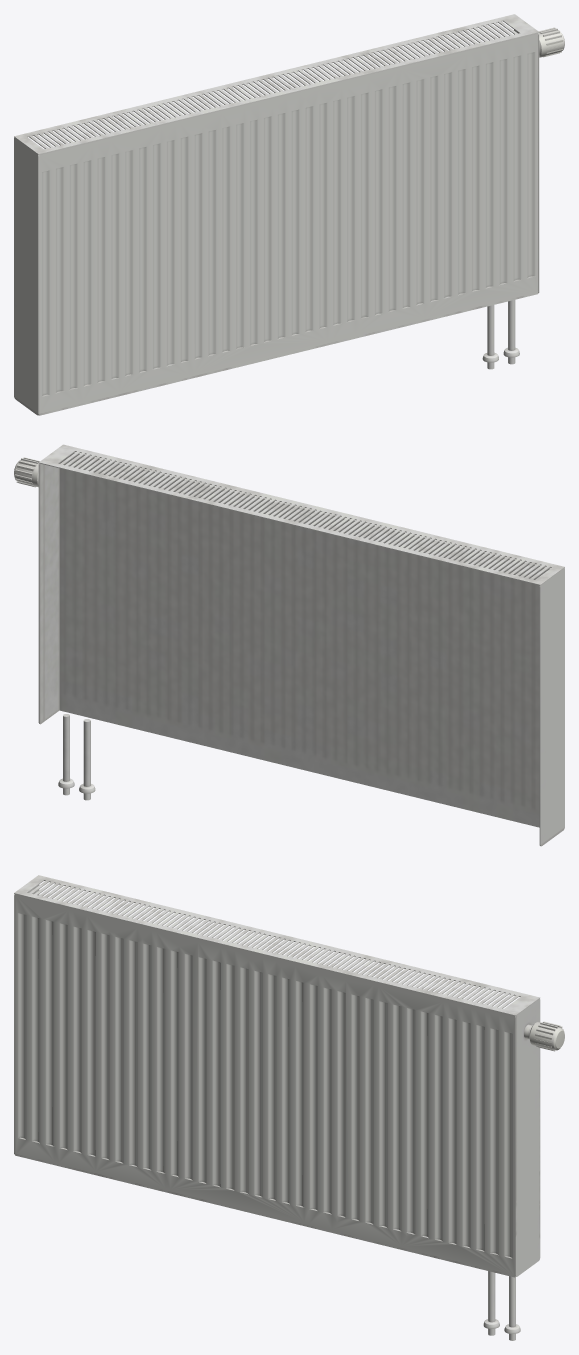
Rendered from same_seed_desk_radiator.glb.
3 renders of one model, top to bottom at view 1: azimuth 30°, elevation 25°; view 2: azimuth 150°, elevation 25°; view 3: azimuth 330°, elevation 25°, orthographic.
Visible parts, largest first — view 1: radiator_front_panel_low, radiator_grille_low, radiator_side_cover_l_low, radiator_pipes_and_collars_low, radiator_side_cover_r_low; view 2: radiator_front_panel_low, radiator_grille_low, radiator_side_cover_l_low, radiator_side_cover_r_low, radiator_pipes_and_collars_low; view 3: radiator_front_panel_low, radiator_grille_low, radiator_side_cover_r_low, radiator_pipes_and_collars_low, radiator_thermostat_low.
Part boxes in pixels (bbox=[...]): radiator_front_panel_low: bbox=[38, 33, 538, 415]; radiator_grille_low: bbox=[14, 14, 539, 154]; radiator_side_cover_l_low: bbox=[14, 137, 39, 415]; radiator_pipes_and_collars_low: bbox=[482, 300, 519, 369]; radiator_side_cover_r_low: bbox=[514, 15, 539, 292]; radiator_front_panel_low: bbox=[59, 452, 550, 827]; radiator_grille_low: bbox=[38, 444, 564, 585]; radiator_side_cover_l_low: bbox=[539, 568, 564, 846]; radiator_side_cover_r_low: bbox=[38, 463, 59, 724]; radiator_pipes_and_collars_low: bbox=[58, 714, 95, 800]; radiator_front_panel_low: bbox=[15, 894, 515, 1277]; radiator_grille_low: bbox=[14, 875, 540, 1016]; radiator_side_cover_r_low: bbox=[515, 998, 540, 1276]; radiator_pipes_and_collars_low: bbox=[483, 1271, 520, 1340]; radiator_thermostat_low: bbox=[524, 1022, 564, 1050].
Size of the model in its own units: 1.28 by 0.772 by 0.102.
Materials: 2 (2 with a texture image).
